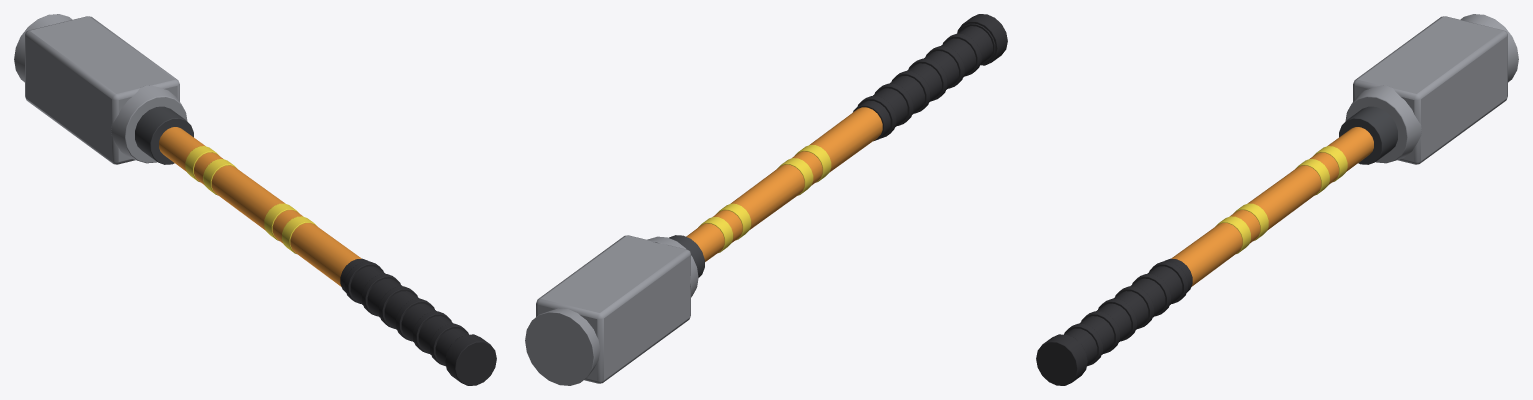
File: mazo_obra.glb
3 views of the same model, side by side, from view 1: azimuth 30°, elevation 25°; view 2: azimuth 150°, elevation 25°; view 3: azimuth 330°, elevation 25° (orthographic).
Parts seen in each view (by area): view 1: mazo_obra; view 2: mazo_obra; view 3: mazo_obra.
Boxes of the visible parts, x1,y1,x2,y2 form: mazo_obra: [14, 14, 496, 385]; mazo_obra: [525, 14, 1007, 385]; mazo_obra: [1036, 14, 1518, 385].
Bounding box in the file's own units: 0.1007 × 0.1007 × 1.08.
